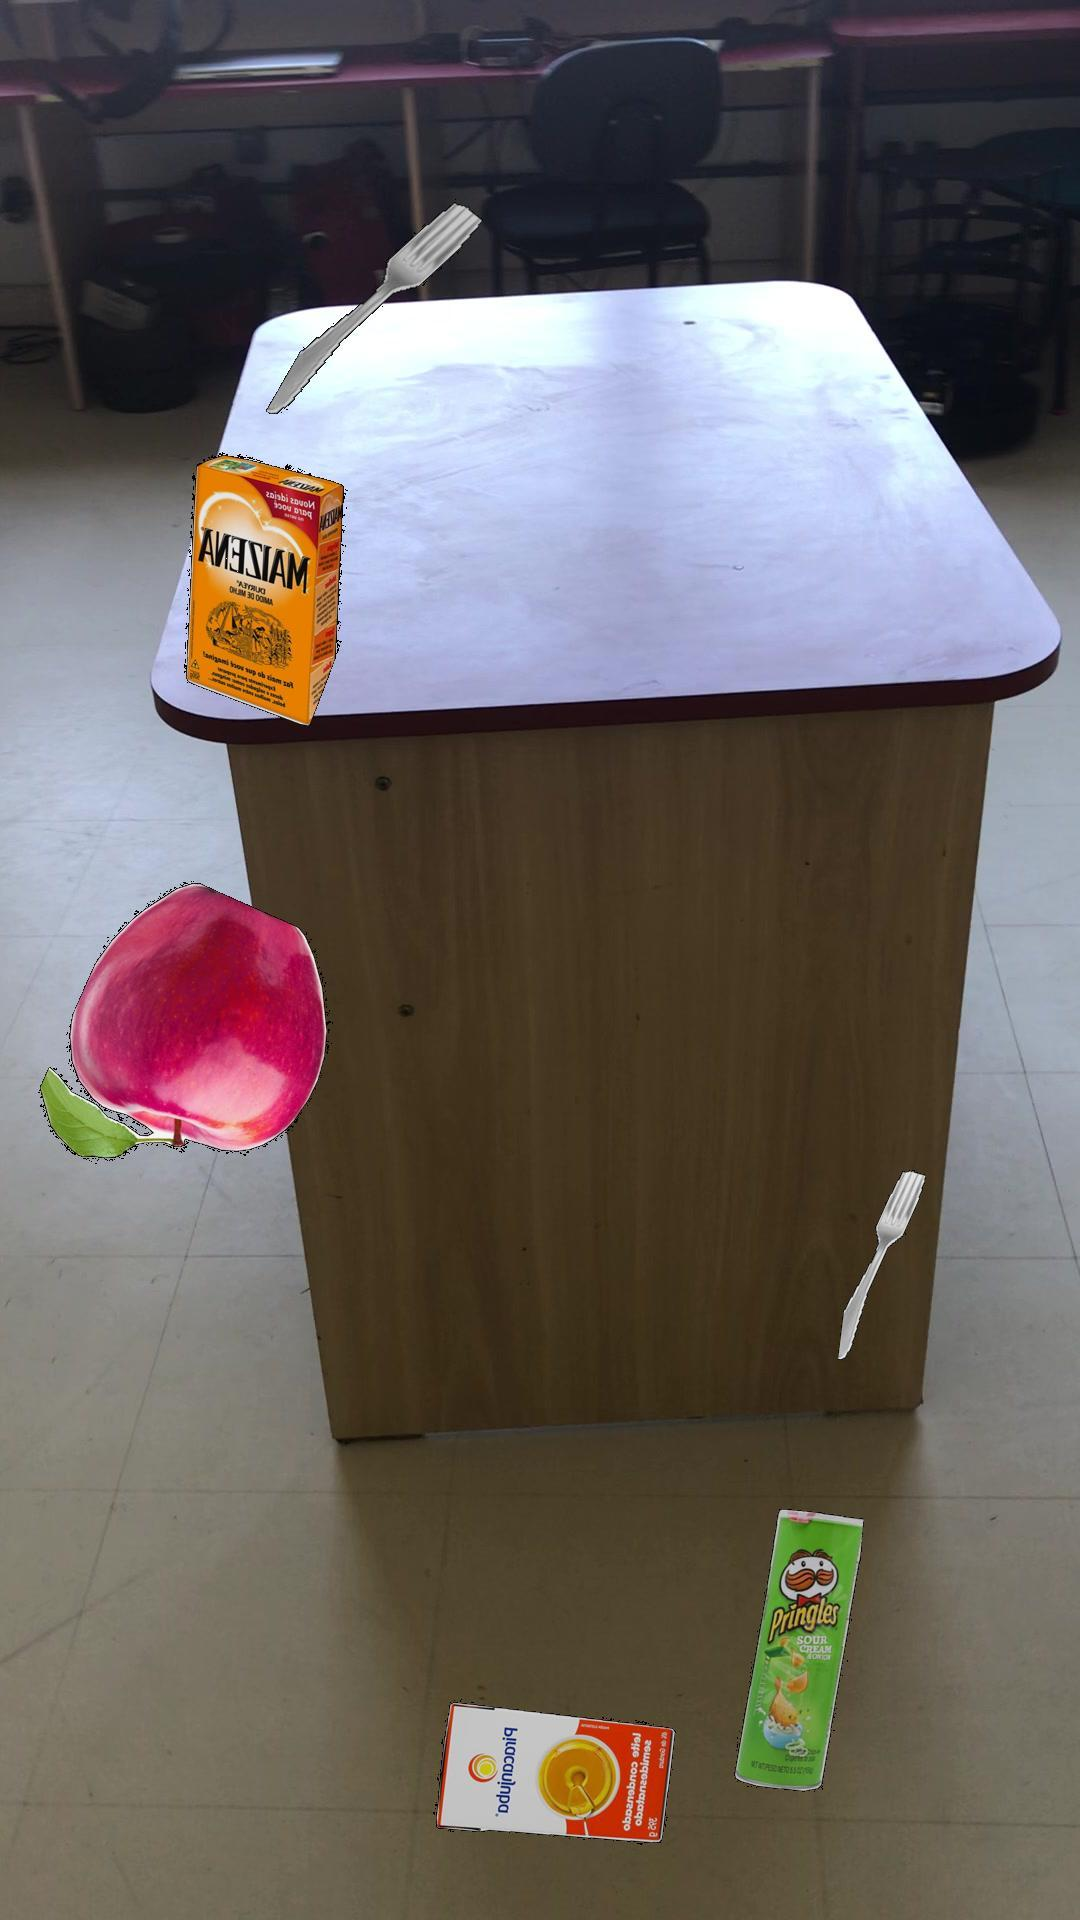apple: (37, 881, 330, 1158)
fork: (265, 200, 481, 413), (836, 1168, 924, 1358)
pringles: (732, 1507, 862, 1791)
